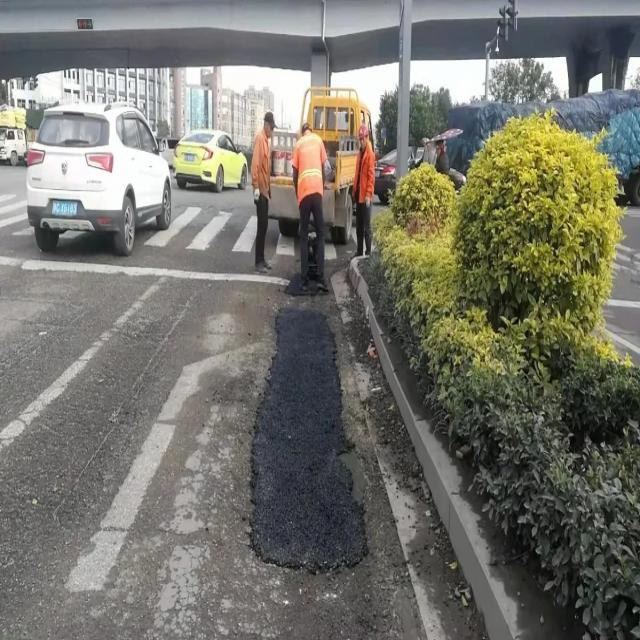Pothole: (248, 293, 376, 582)
